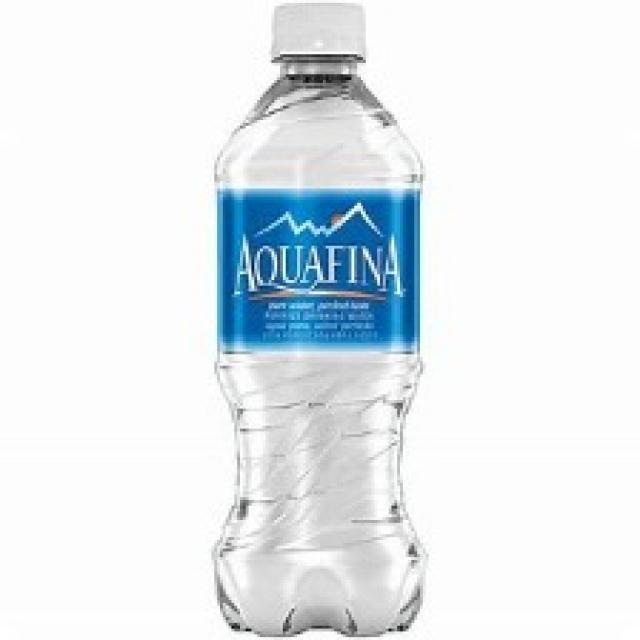plastic_bottle: (210, 5, 443, 640)
